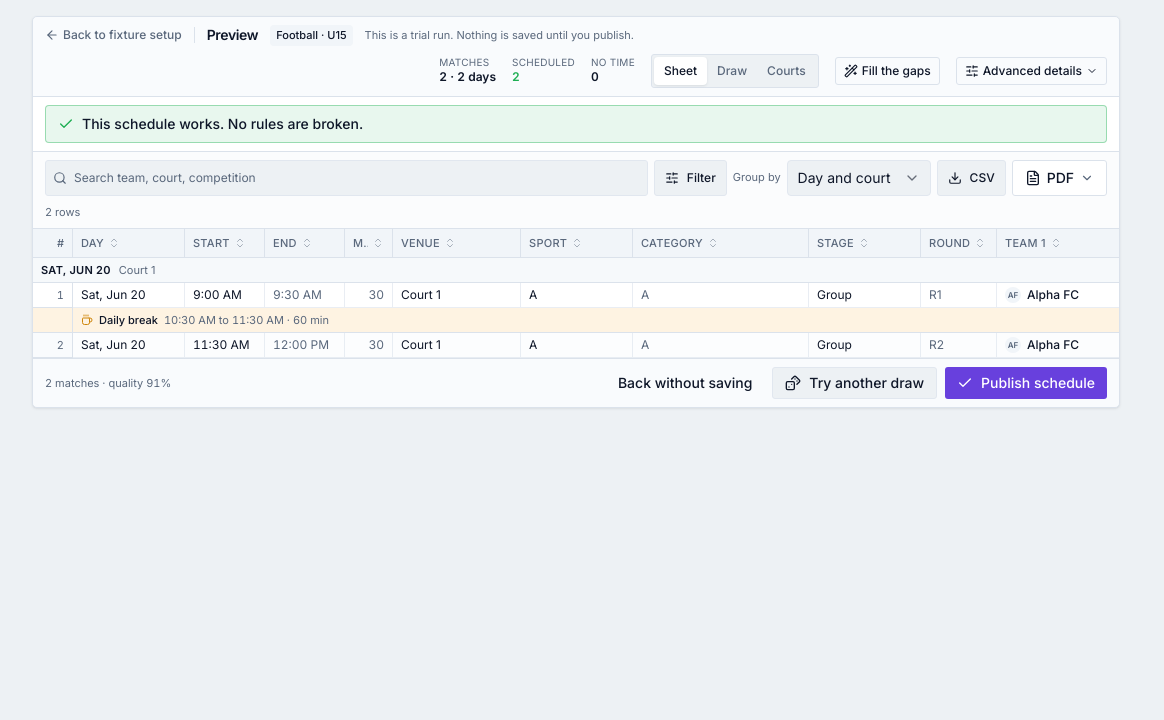
DryRunPreviewPage › Courts view names when each court is free and what each competition costs
Click the radio button with test id "preview-view-courts".
click(786, 70)  # box [757,56,816,84]
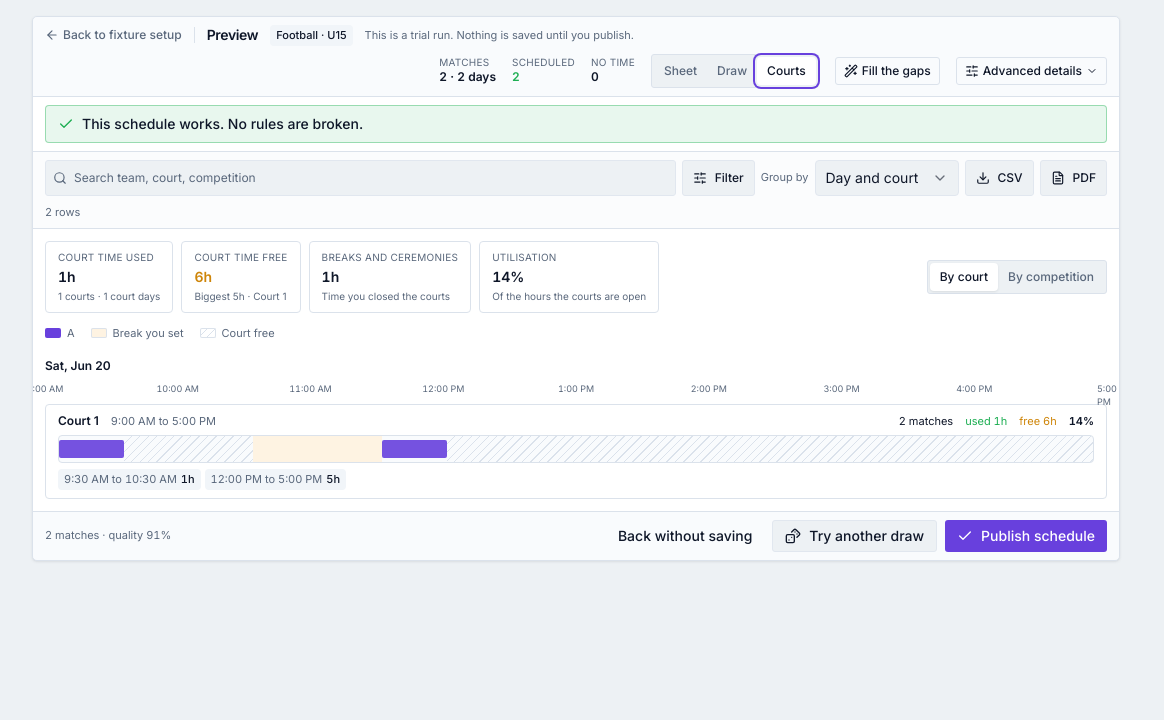
Now the element with test id "court-row-2026-06-20|Court 1" shows "Court 1", box [58,412,99,428]
Now the element with test id "court-row-2026-06-20|Court 1" shows "2 matches", box [45,404,1107,498]
Now the element with test id "court-stat-used" shows "1h", box [58,268,76,285]
// The other half of the tab: minutes per competition.
Click the radio button with test id "court-tab-time".
click(1051, 277)  # box [998,263,1104,291]
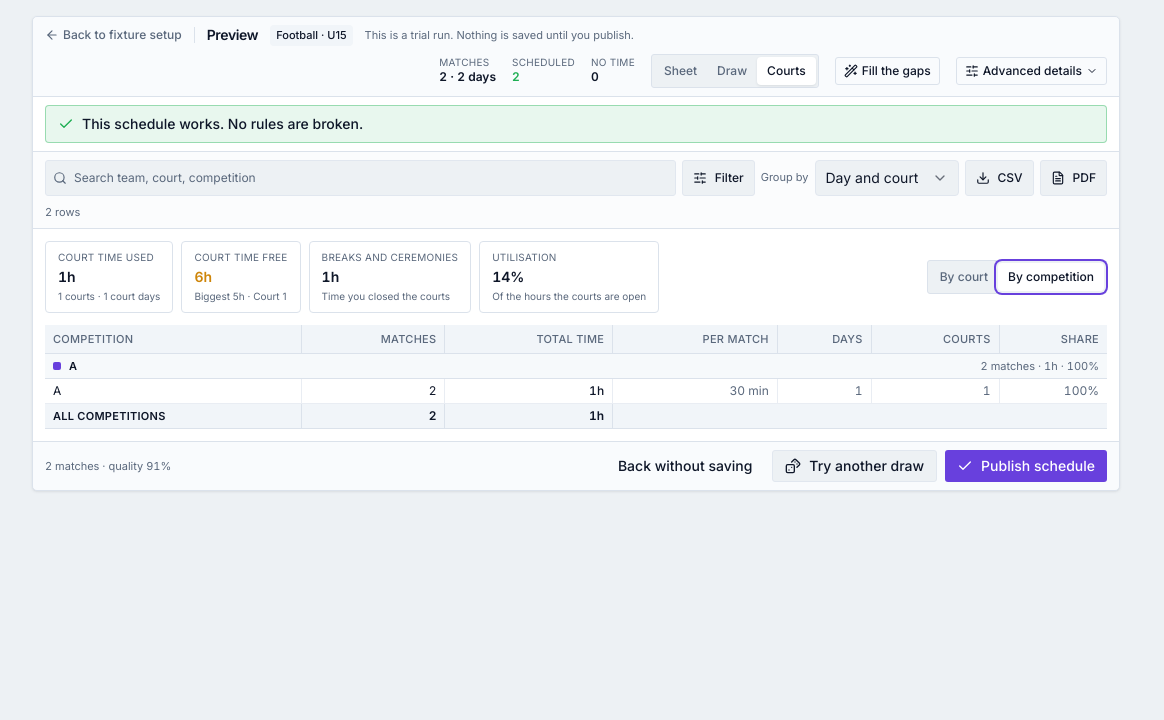
Now the row with test id "load-row-football.u15" shows "1h", box [589,383,604,398]
Now the row with test id "load-total" shows "1h", box [589,408,604,423]
